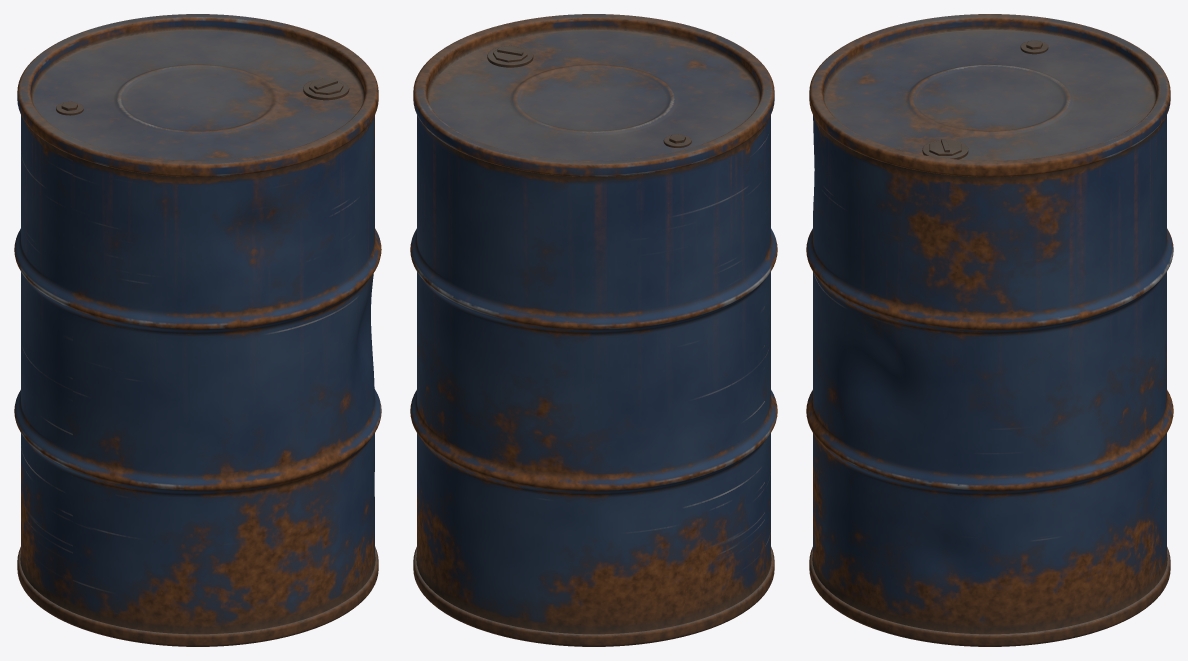
The model's file is SM_OilDrum_Rusty.fbx.
3 renders of one model, left to right at view 1: azimuth 30°, elevation 25°; view 2: azimuth 150°, elevation 25°; view 3: azimuth 270°, elevation 25°, orthographic.
Parts seen in each view (by area): view 1: SM_OilDrum_Rusty; view 2: SM_OilDrum_Rusty; view 3: SM_OilDrum_Rusty.
Part boxes in pixels (x1,y1,x2,y2): SM_OilDrum_Rusty: (14,14,381,646); SM_OilDrum_Rusty: (410,14,777,646); SM_OilDrum_Rusty: (806,14,1173,646).
Bounding box in the file's own units: 0.607 × 0.88 × 0.607.
1 material, 1 textured.
